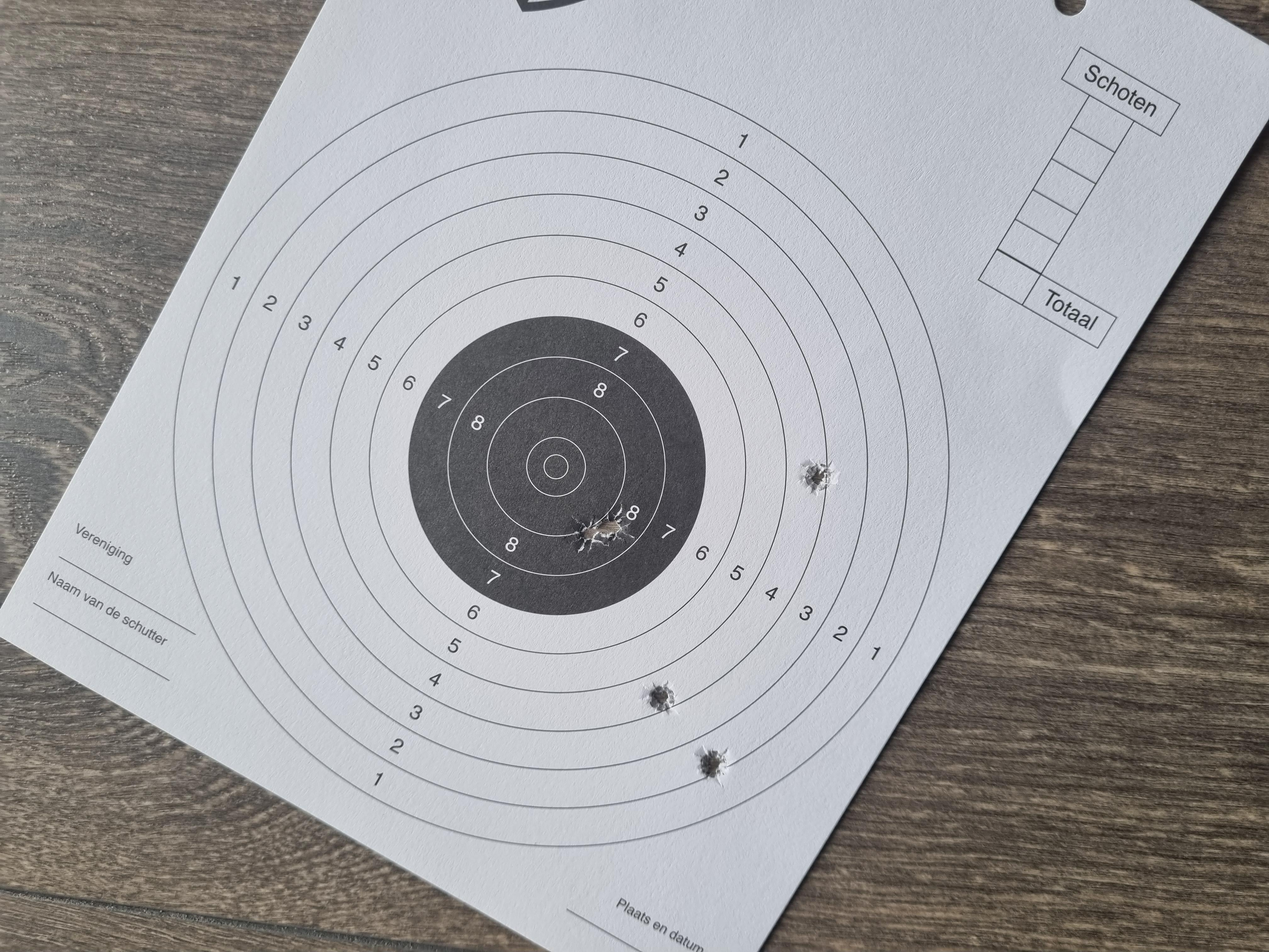hole: (603, 597, 662, 630), (311, 481, 368, 513), (220, 519, 277, 551), (525, 425, 588, 453), (537, 449, 601, 475)
